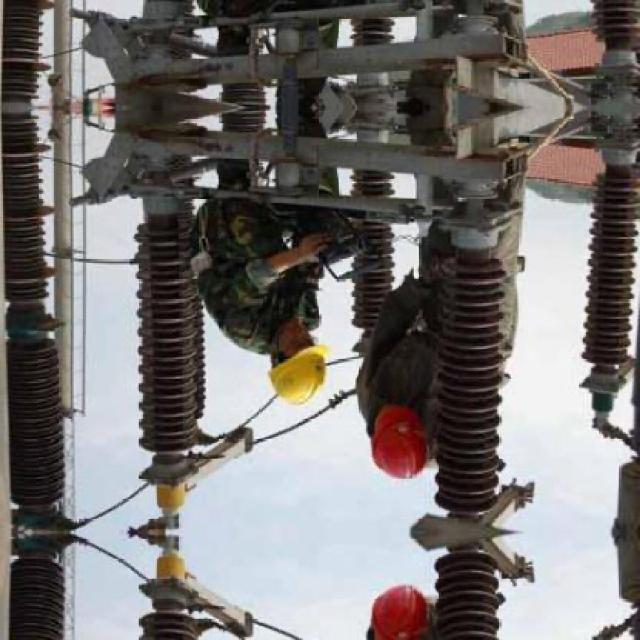con casco: (350, 385, 459, 501), (236, 318, 332, 414)
